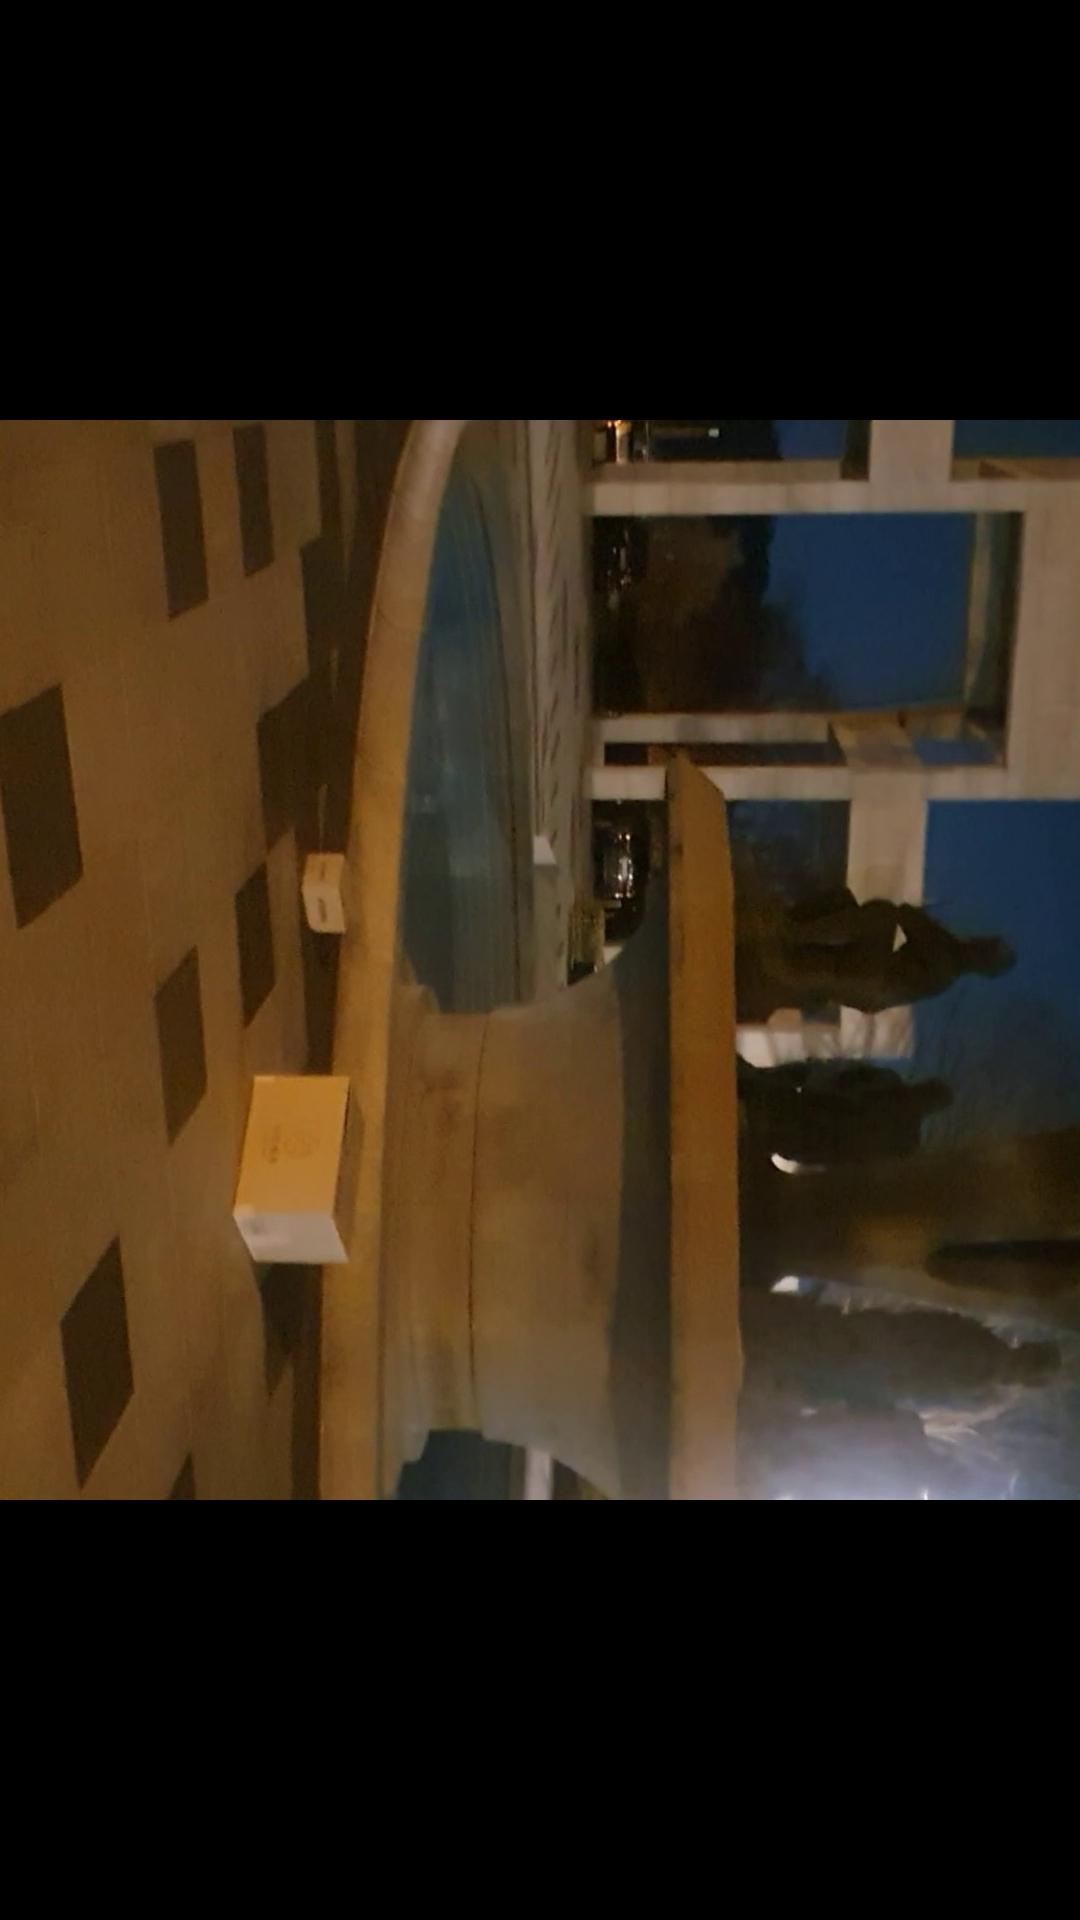Box: (225, 1068, 382, 1265), (295, 851, 363, 943)
